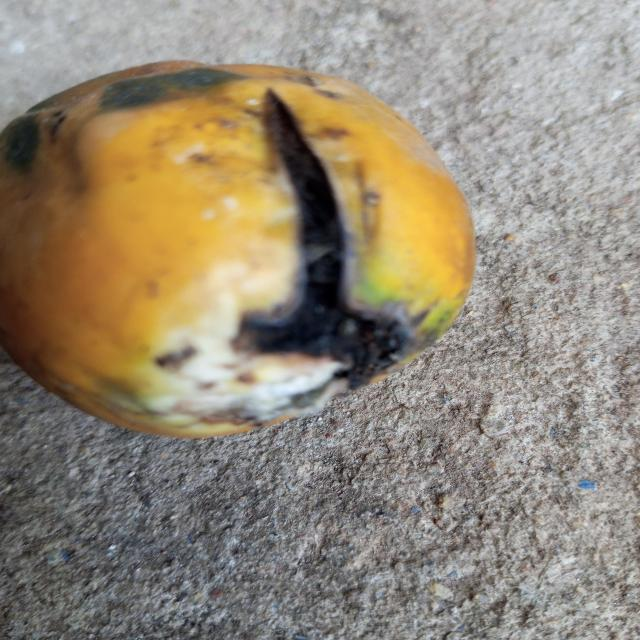damaged: (0, 61, 475, 437)
